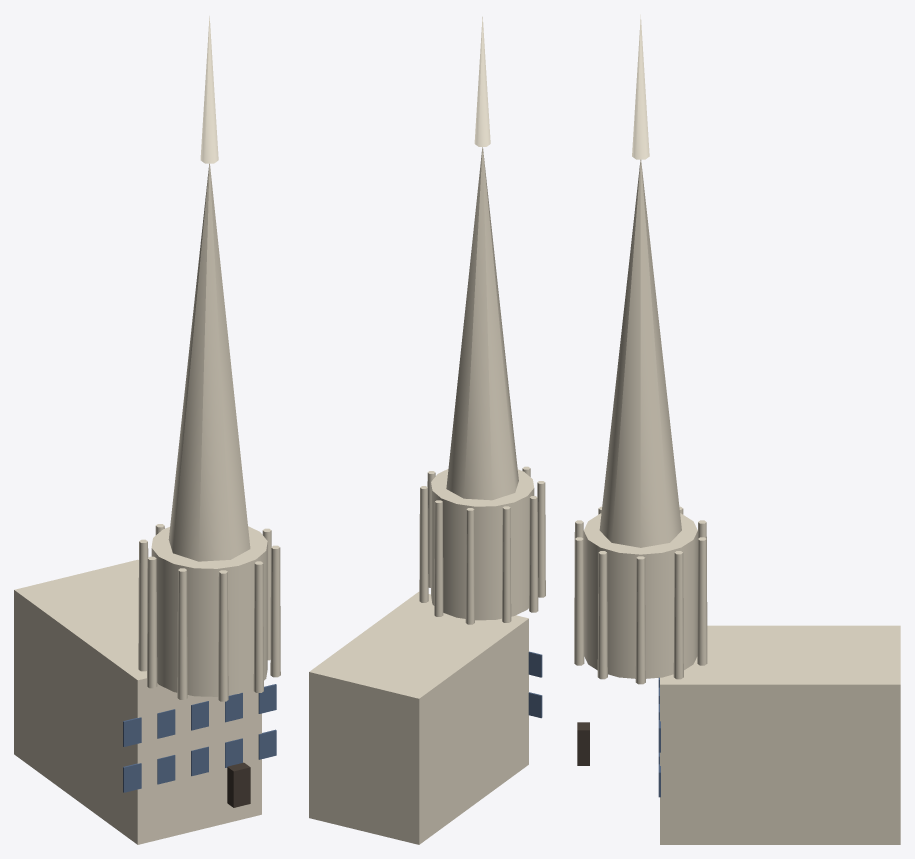
File: allsouls.glb
3 renders of one model, left to right at view 1: azimuth 30°, elevation 25°; view 2: azimuth 150°, elevation 25°; view 3: azimuth 270°, elevation 25°, orthographic. The views are drawn at different scales.
Parts seen in each view (by area): view 1: allsouls; view 2: allsouls; view 3: allsouls.
Part boxes in pixels (x1,y1,x2,y2): allsouls: (14,16,280,844); allsouls: (309,16,545,844); allsouls: (574,14,900,844).
Size of the model in its own units: 0.2436 by 1.25 by 0.4626.
